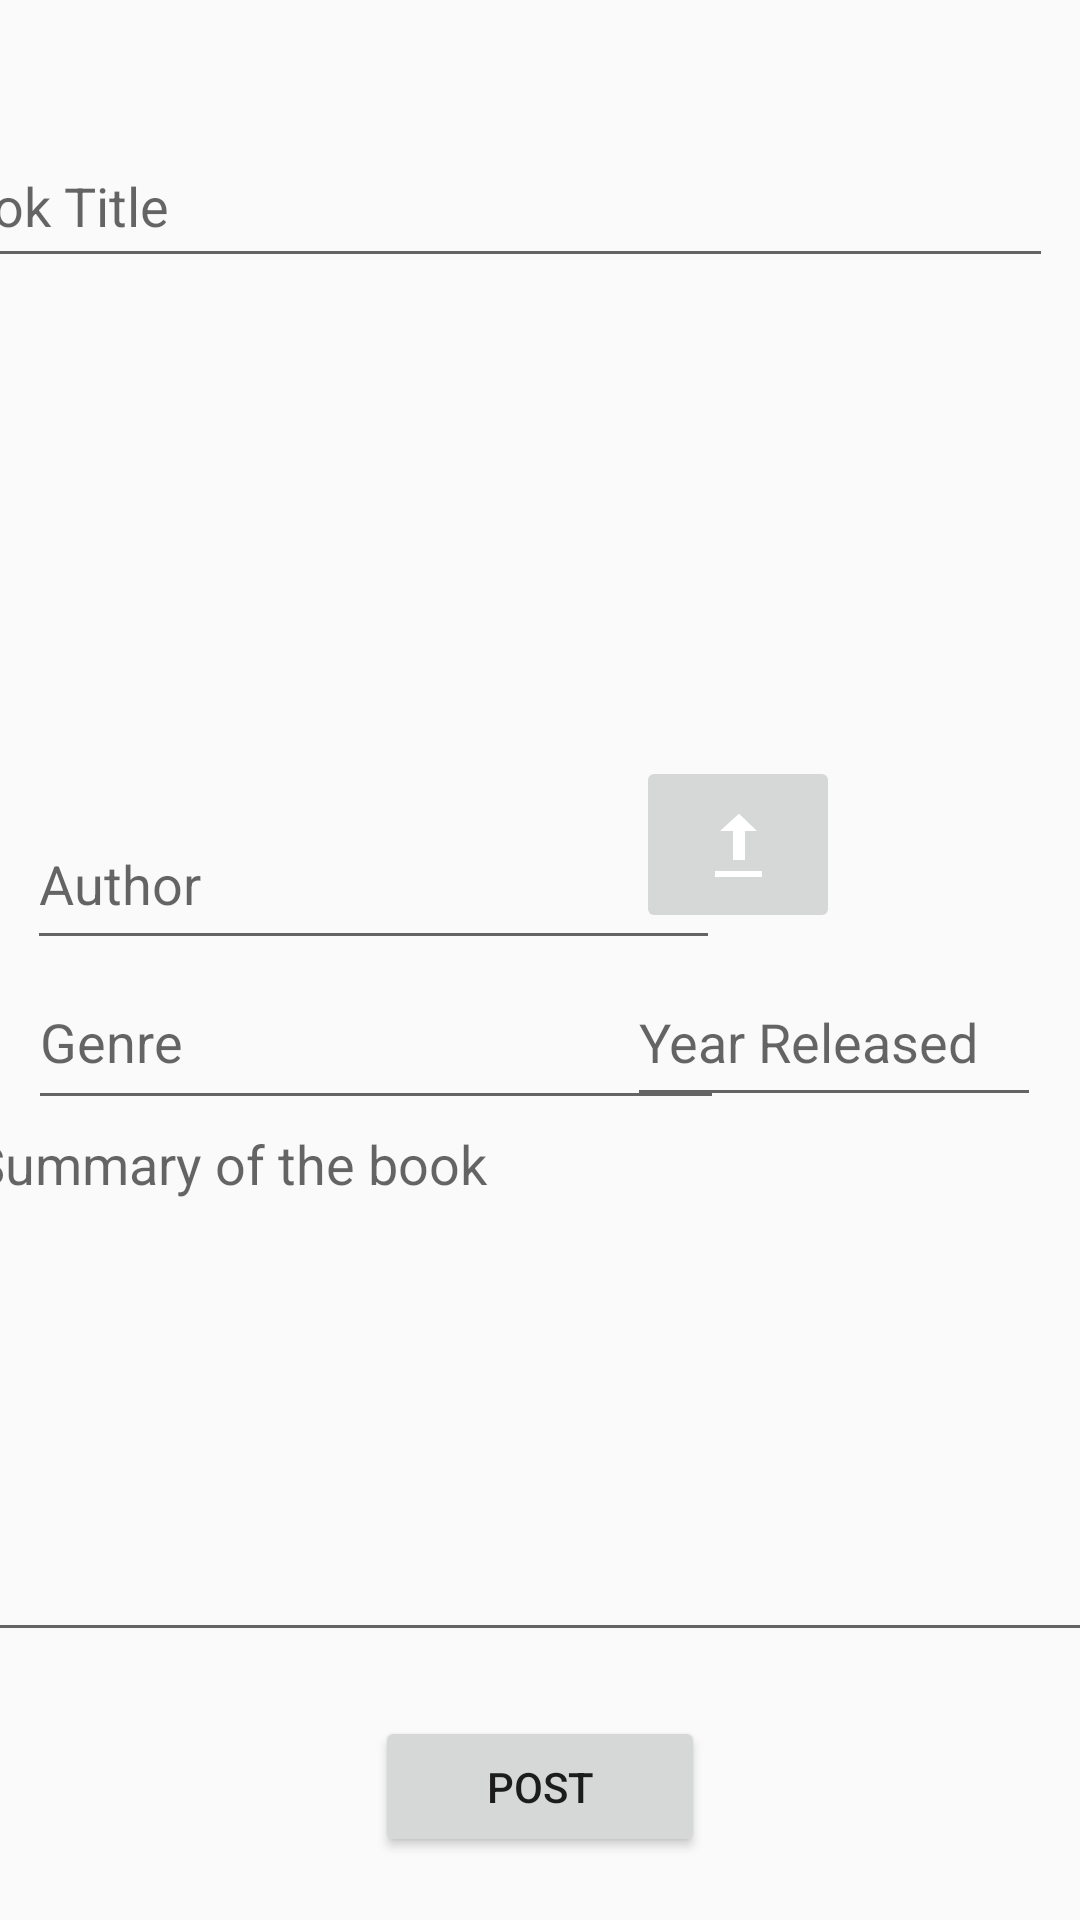

Icon bounding boxes for this 1080 × 1920 phone screenshot, format (x1, y1, x2, y2):
upload: (648, 774, 828, 915)
